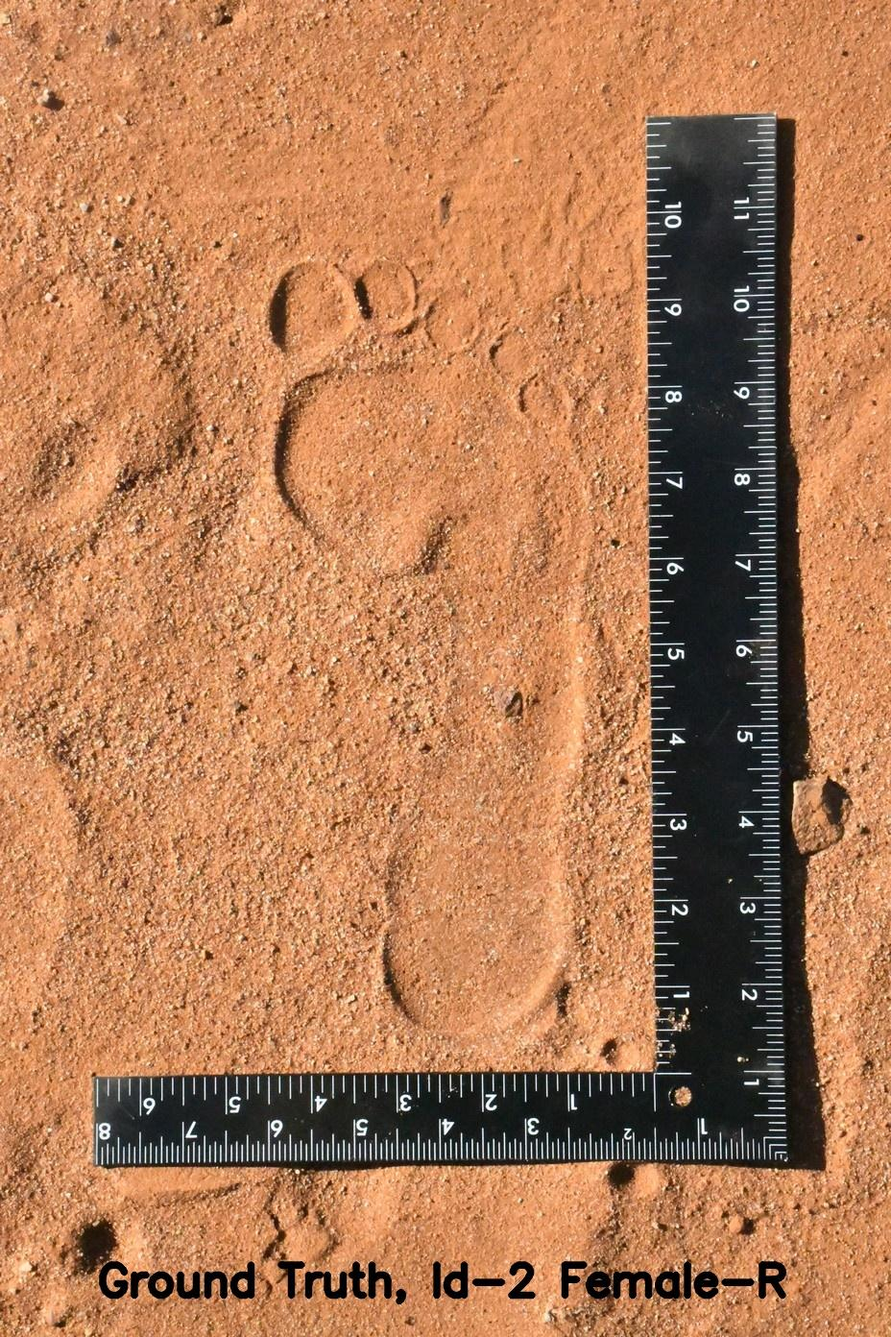human_foot_print: (65, 94, 771, 1239)
